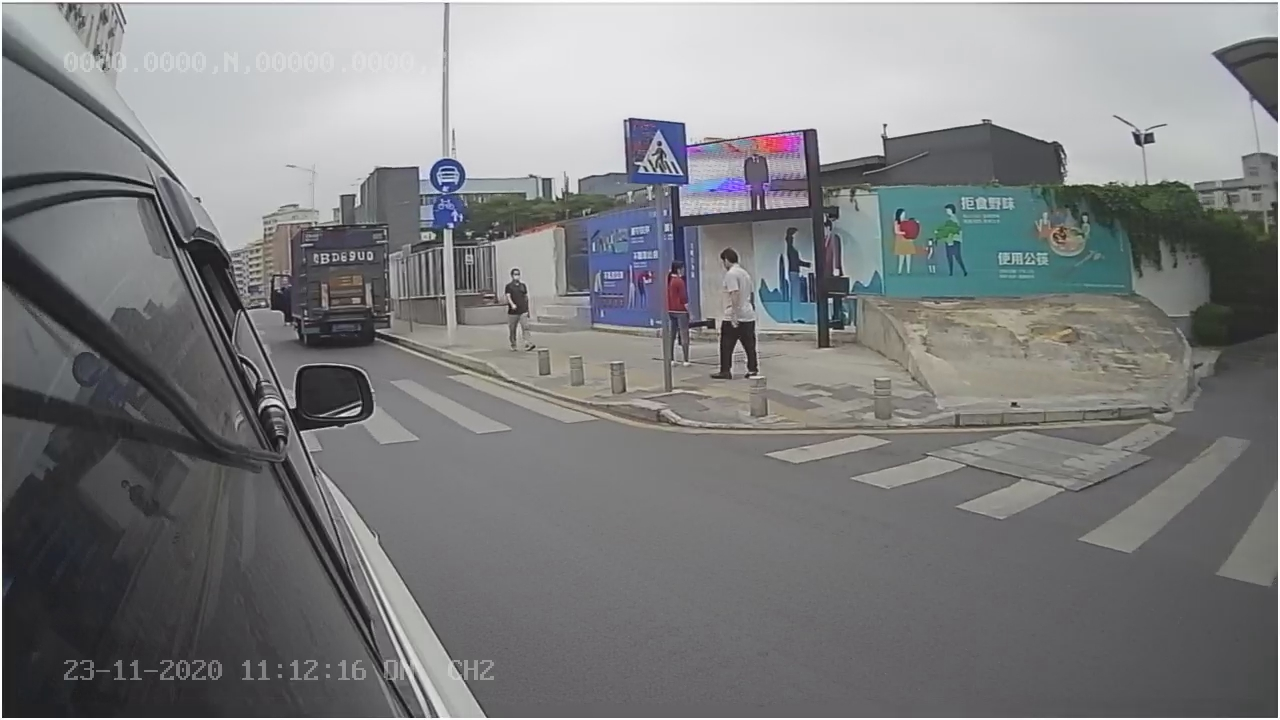person: (702, 244, 765, 382)
